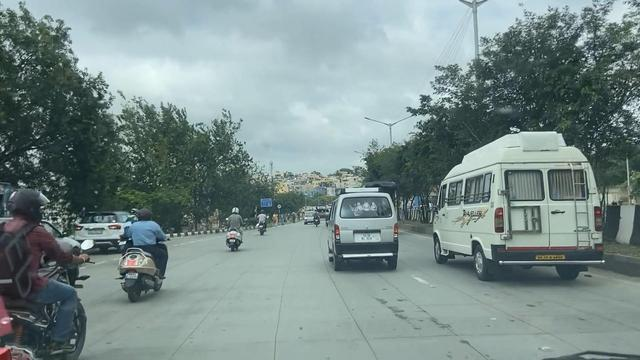HMV: (441, 159, 591, 285)
LMV: (4, 184, 92, 360), (319, 187, 396, 269), (121, 203, 167, 310), (227, 203, 244, 254)
